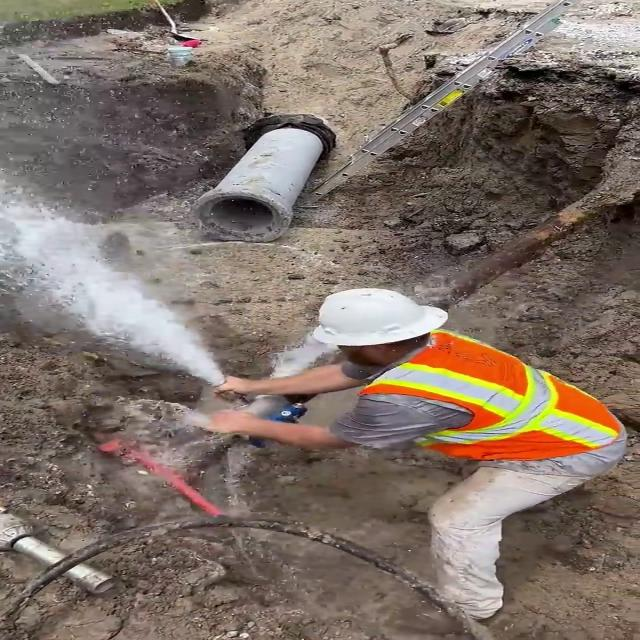leak: (0, 174, 228, 389), (265, 325, 350, 378)
